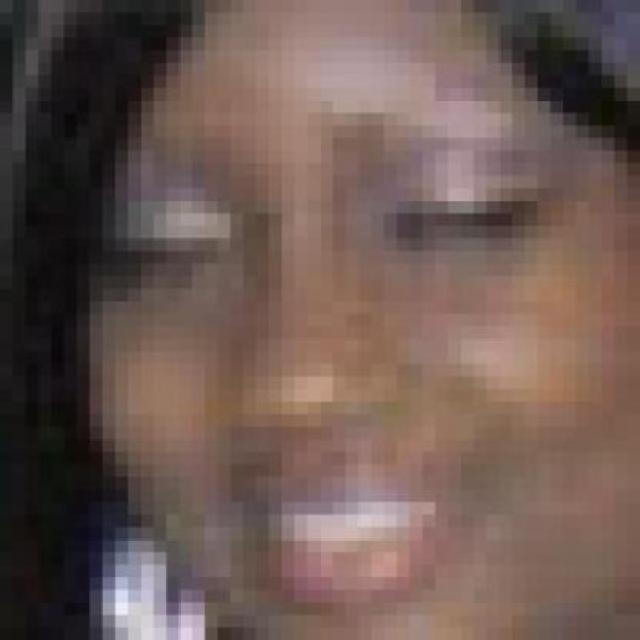drowsy: (397, 179, 529, 246), (106, 218, 231, 278)
